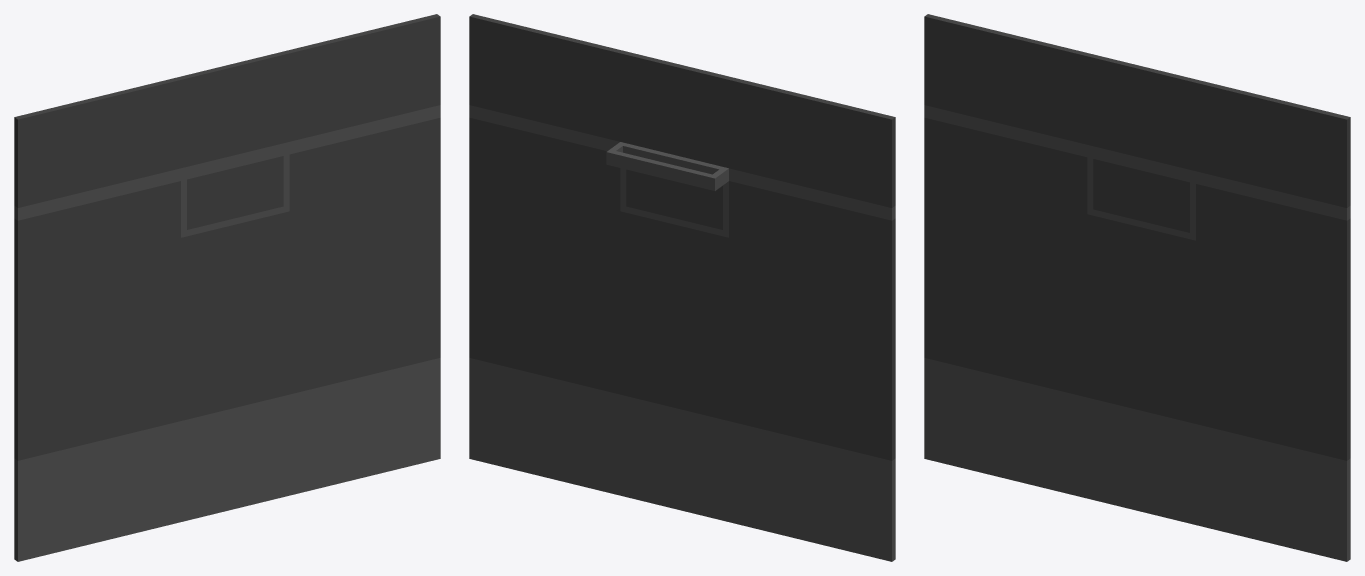
Rendered from oven_door.obj.
3 renders of one model, left to right at view 1: azimuth 30°, elevation 25°; view 2: azimuth 150°, elevation 25°; view 3: azimuth 330°, elevation 25°, orthographic.
Parts seen in each view (by area): view 1: ObjObject; view 2: ObjObject; view 3: ObjObject.
Boxes of the visible parts, <box> form: ObjObject: <box>14,14,440,561</box>; ObjObject: <box>469,14,895,561</box>; ObjObject: <box>924,14,1350,561</box>.
Bounding box in the file's own units: 7 × 7 × 0.5.
1 material, 1 textured.
